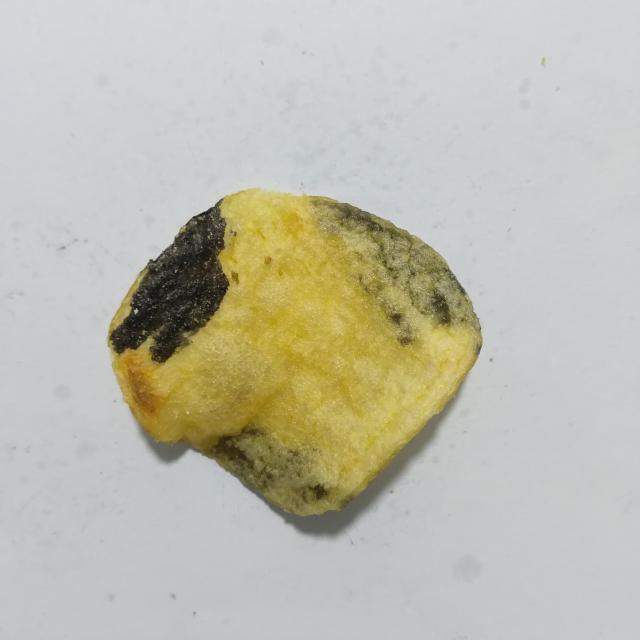chip: (107, 189, 482, 515)
damaged: (109, 200, 229, 363)
semi-damaged: (310, 197, 482, 353), (211, 429, 352, 516), (231, 271, 239, 284)
